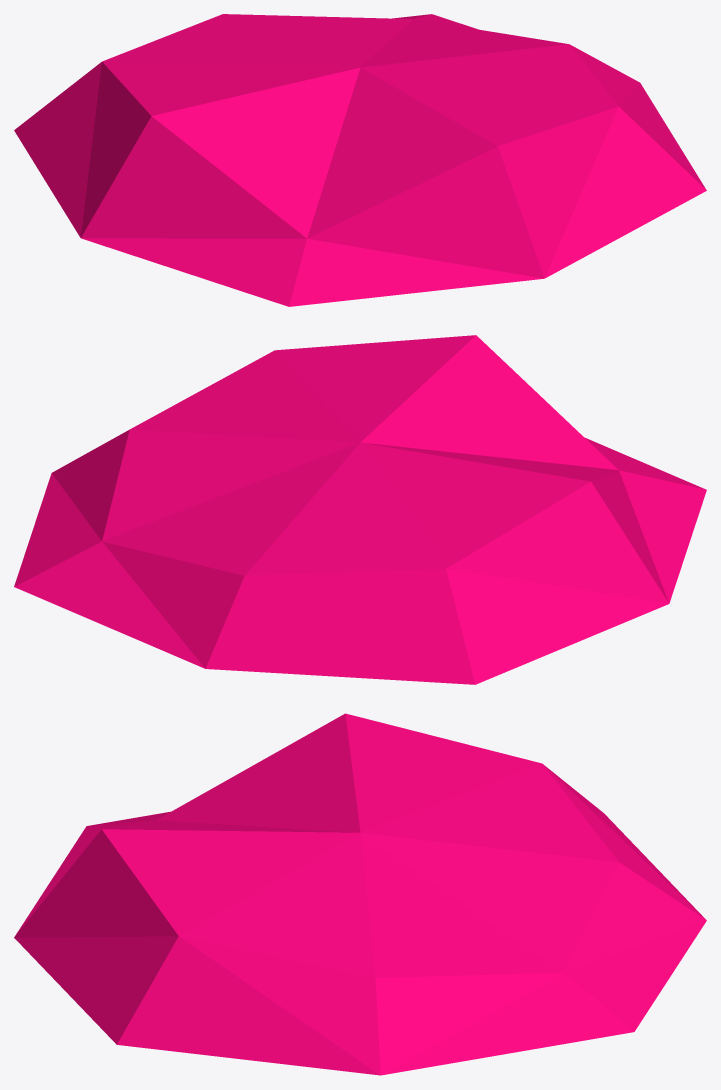
The model's file is SM_SS_Stone_1.fbx.
3 renders of one model, top to bottom at view 1: azimuth 30°, elevation 25°; view 2: azimuth 150°, elevation 25°; view 3: azimuth 270°, elevation 25°, orthographic. The views are drawn at different scales.
Parts seen in each view (by area): view 1: SM_SS_Stone_3; view 2: SM_SS_Stone_3; view 3: SM_SS_Stone_3.
Part boxes in pixels (x1,y1,x2,y2): SM_SS_Stone_3: (14,14,706,306); SM_SS_Stone_3: (14,335,706,684); SM_SS_Stone_3: (14,713,706,1075).
Size of the model in its own units: 36.13 by 36.13 by 6.11.
